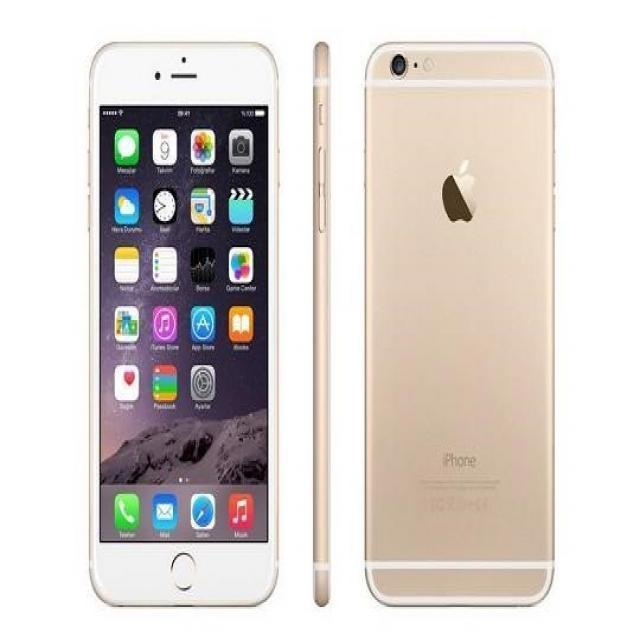phone: (82, 36, 286, 612), (358, 33, 561, 611), (308, 37, 337, 612)
